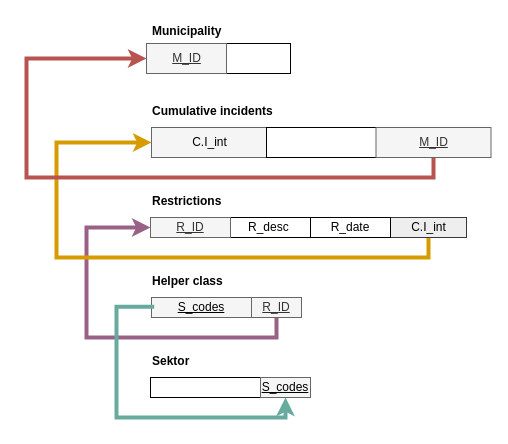
This 508x444 diagram has some shape labels left out. Each missing label, with the box of its shape:
C.I_date: (266, 126, 376, 158)
M_name: (220, 42, 290, 74)
S_name: (150, 376, 260, 398)
